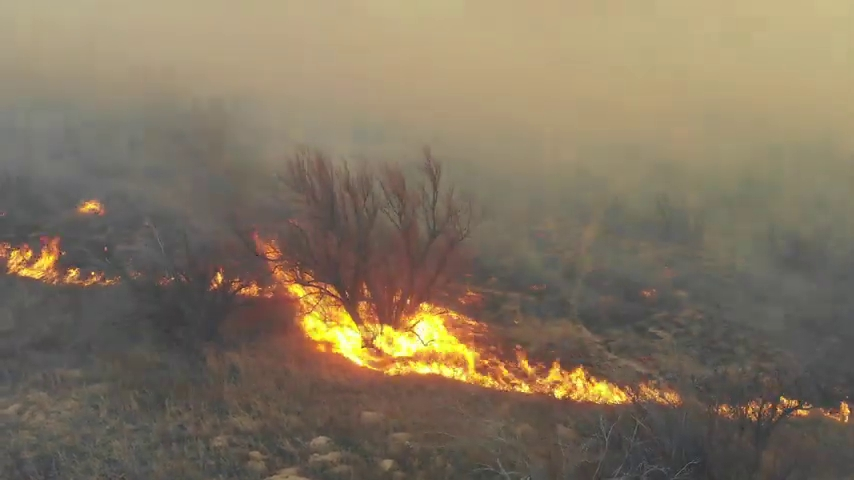forest_fire: (271, 265, 681, 404), (0, 237, 118, 286), (713, 397, 850, 422), (229, 279, 271, 295), (256, 241, 280, 255), (78, 200, 104, 212), (211, 269, 225, 289)
